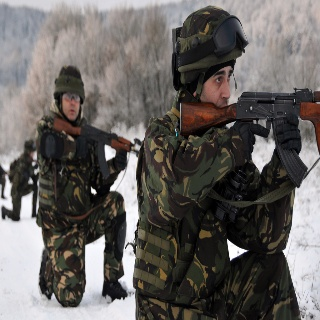rifle: (177, 80, 320, 186), (52, 116, 142, 180)
